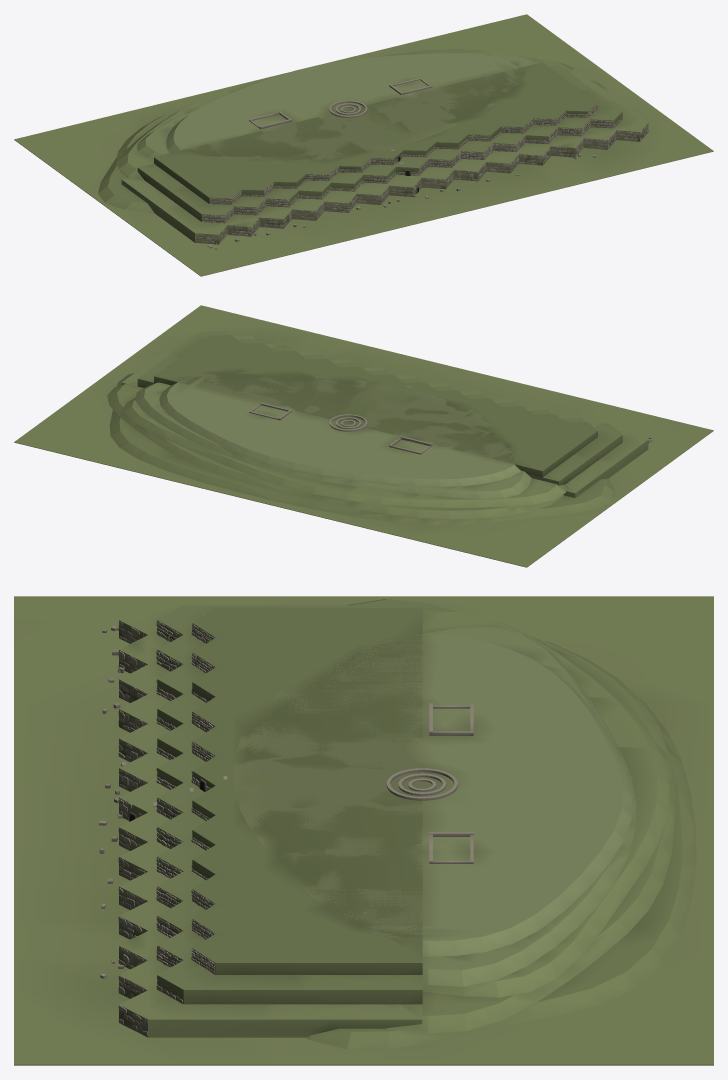
File: sacsayhuaman-ruin.glb
3 views of the same model, one above another, from view 1: azimuth 30°, elevation 25°; view 2: azimuth 150°, elevation 25°; view 3: azimuth 270°, elevation 25° (orthographic). The views are drawn at different scales.
Visible parts, largest first — view 1: p0_hill, p1_walls; view 2: p0_hill, p1_walls; view 3: p0_hill, p1_walls.
Boxes of the visible parts, x1,y1,x2,y2 form: p0_hill: (14,14,713,276); p1_walls: (195,78,648,249); p0_hill: (14,305,713,567); p1_walls: (247,335,652,454); p0_hill: (14,596,713,1065); p1_walls: (99,609,473,1036).
Bounding box in the file's own units: 380 × 18.84 × 240.
